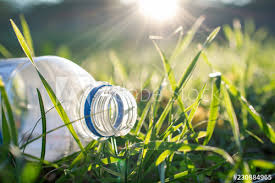plastic_bottle: (1, 54, 140, 158)
